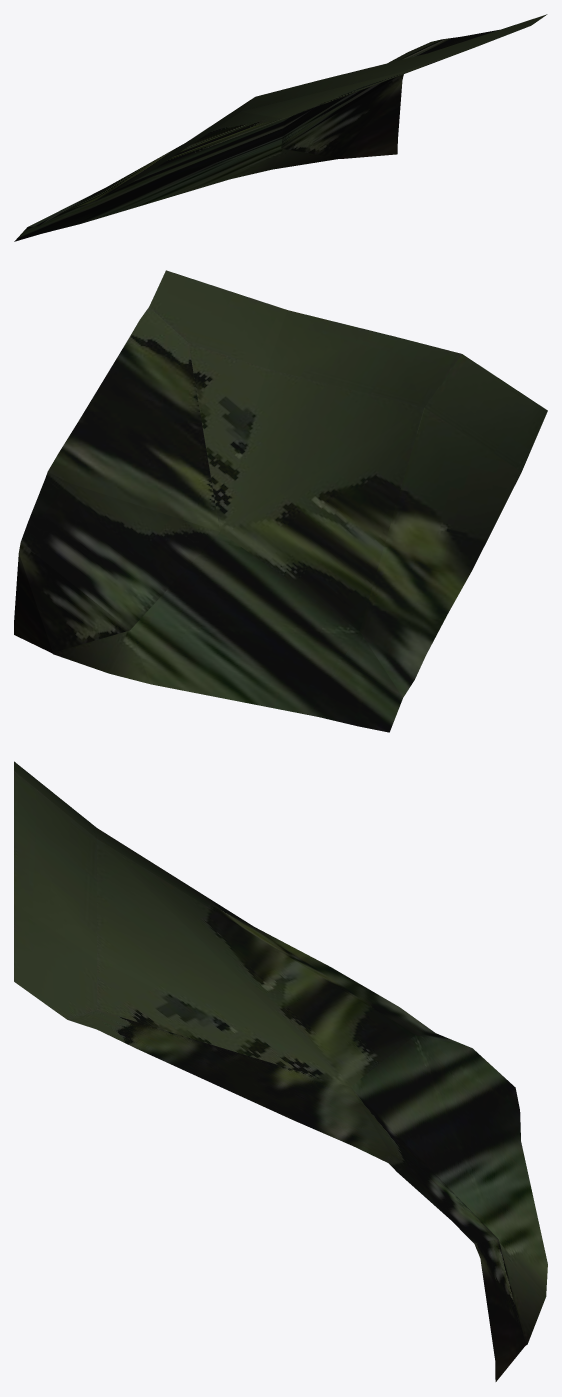
3 renders of one model, top to bottom at view 1: azimuth 30°, elevation 25°; view 2: azimuth 150°, elevation 25°; view 3: azimuth 270°, elevation 25°, orthographic. The views are drawn at different scales.
Size of the model in its own units: 0.8373 by 0.5306 by 0.6402.
Materials: 2 (2 with a texture image).
